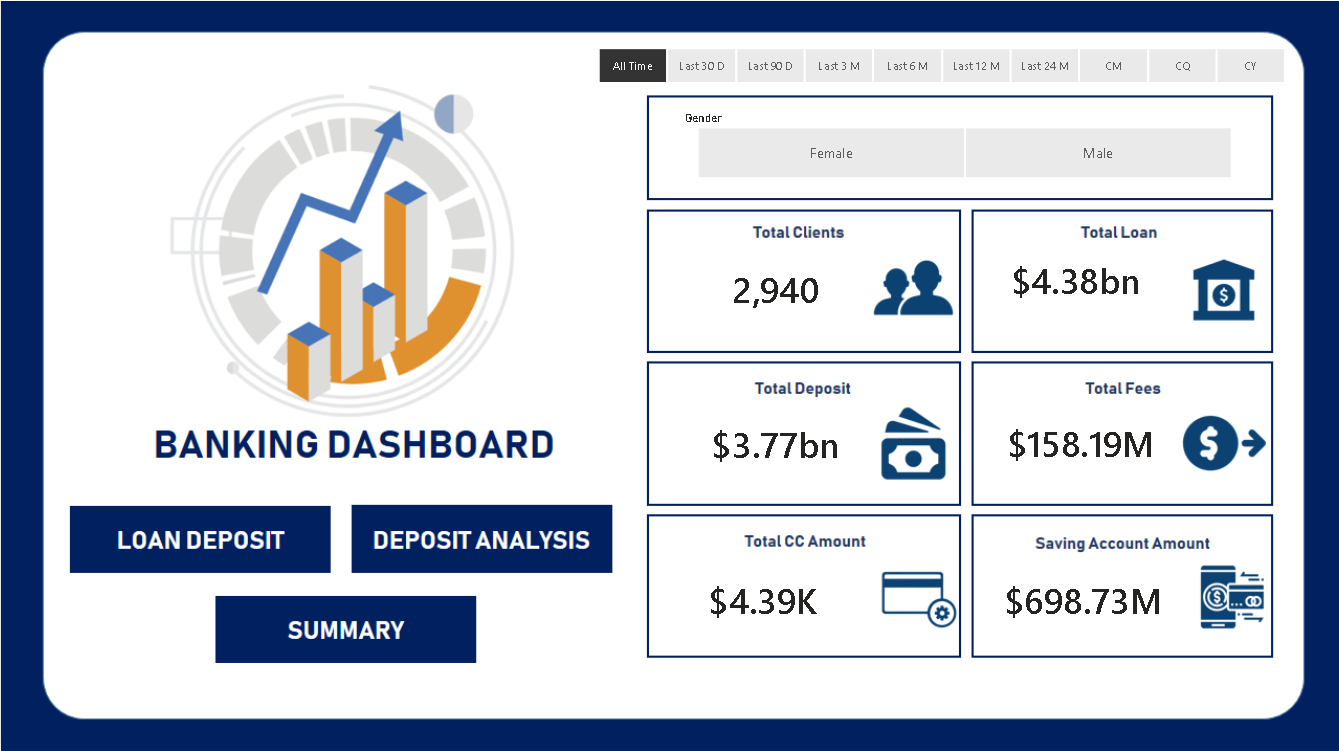

The dashboard page shown, as its layout file describes it:
{"tool":"powerbi","page":{"name":"Home","canvas":[1280,720],"ordinal":0},"visuals":[{"type":"slicer","fields":{"Values":["Gender.Gender"]},"box":[640.3,100.8,558.2,75],"z":0},{"type":"card","fields":{"Values":["DAX Measures.Total Clients"]},"box":[640.3,218.1,198.2,114.9],"z":1000},{"type":"card","fields":{"Values":["DAX Measures.Total Loan"]},"box":[933.4,208.7,184.1,114.9],"z":2000},{"type":"card","fields":{"Values":["DAX Measures.Total Deposit"]},"box":[640.3,374.1,198.2,98.5],"z":3000},{"type":"card","fields":{"Values":["DAX Measures.Total CC Amount"]},"box":[628.5,533.6,198.2,79.7],"z":4000},{"type":"card","fields":{"Values":["DAX Measures.Total Fees"]},"box":[938.1,372.9,185.3,99.7],"z":5000},{"type":"card","fields":{"Values":["DAX Measures.Savings Account"]},"box":[933.4,533.6,198.2,79.7],"z":6000},{"type":"actionButton","box":[63.3,483.1,253.3,65.7],"z":7000},{"type":"actionButton","box":[335.4,485.5,250.9,63.3],"z":8000},{"type":"actionButton","box":[205.2,573.4,255.6,61],"z":9000},{"type":"slicer","fields":{"Values":["Period.Name"]},"box":[546.4,38.7,703.6,45.7],"z":10000}]}

Visuals, with their boxes in screenshot pixels (x1, y1, x2, y2), scaled from the page's 1280x720 canvas onto the 1339x751 screenshot:
slicer - Gender.Gender: <box>670,105,1254,183</box>
card - DAX Measures.Total Clients: <box>670,227,877,347</box>
card - DAX Measures.Total Loan: <box>976,218,1169,338</box>
card - DAX Measures.Total Deposit: <box>670,390,877,493</box>
card - DAX Measures.Total CC Amount: <box>657,557,865,640</box>
card - DAX Measures.Total Fees: <box>981,389,1175,493</box>
card - DAX Measures.Savings Account: <box>976,557,1184,640</box>
actionButton: <box>66,504,331,572</box>
actionButton: <box>351,506,613,572</box>
actionButton: <box>215,598,482,662</box>
slicer - Period.Name: <box>572,40,1308,88</box>
